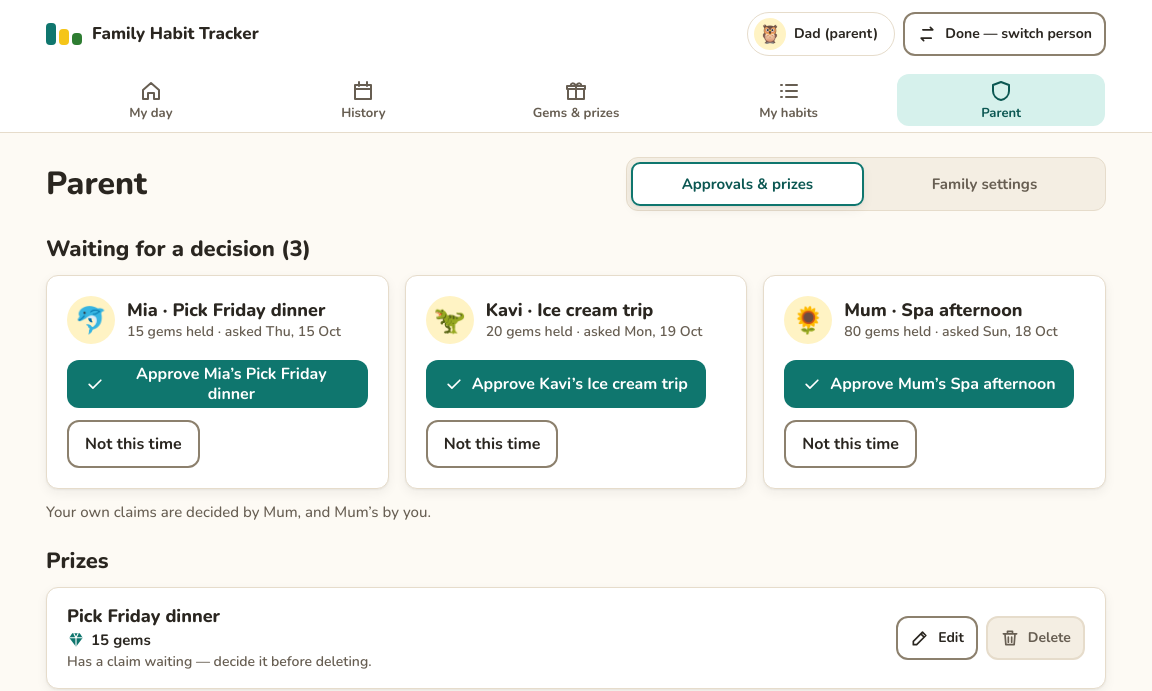
Scenario: REQ-026 parents approve or decline claims › a claim someone already decided (409) refreshes the list kindly
Click the button "Approve Mia’s Pick Friday dinner": point(217, 384) [67,360,368,408]
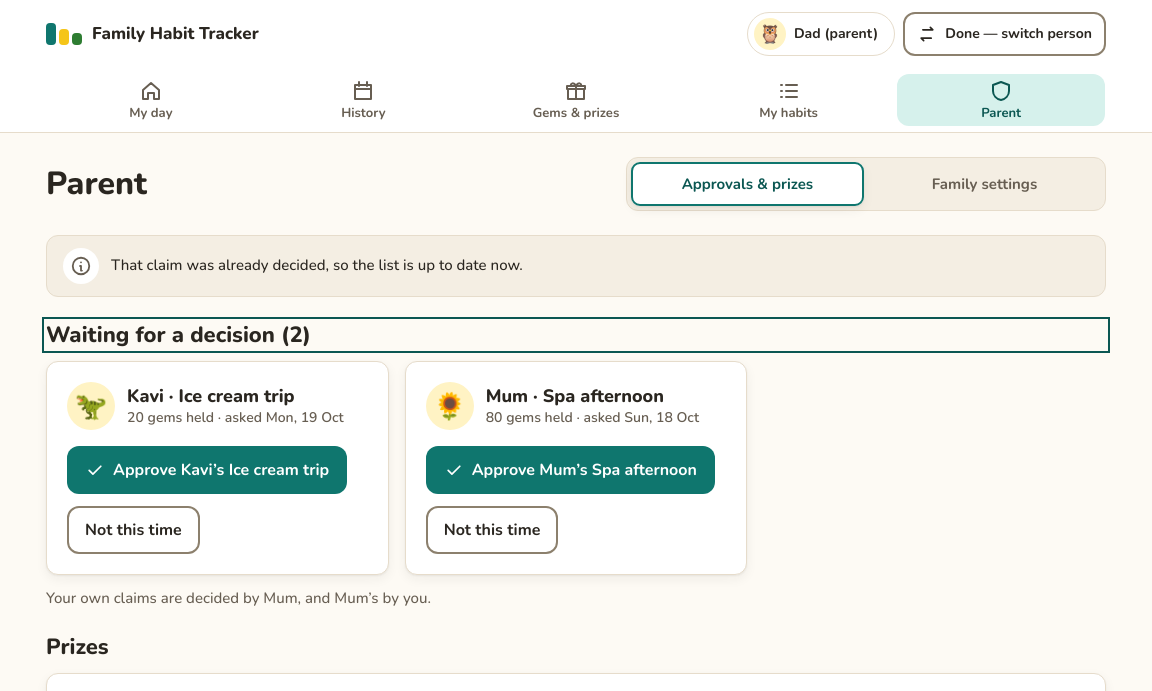
Check: the text "That claim was already decided, so the list is up to date now." is shown, box [111,255,523,275]
Check: the heading "Waiting for a decision (2)" is shown, box [46,320,311,350]
